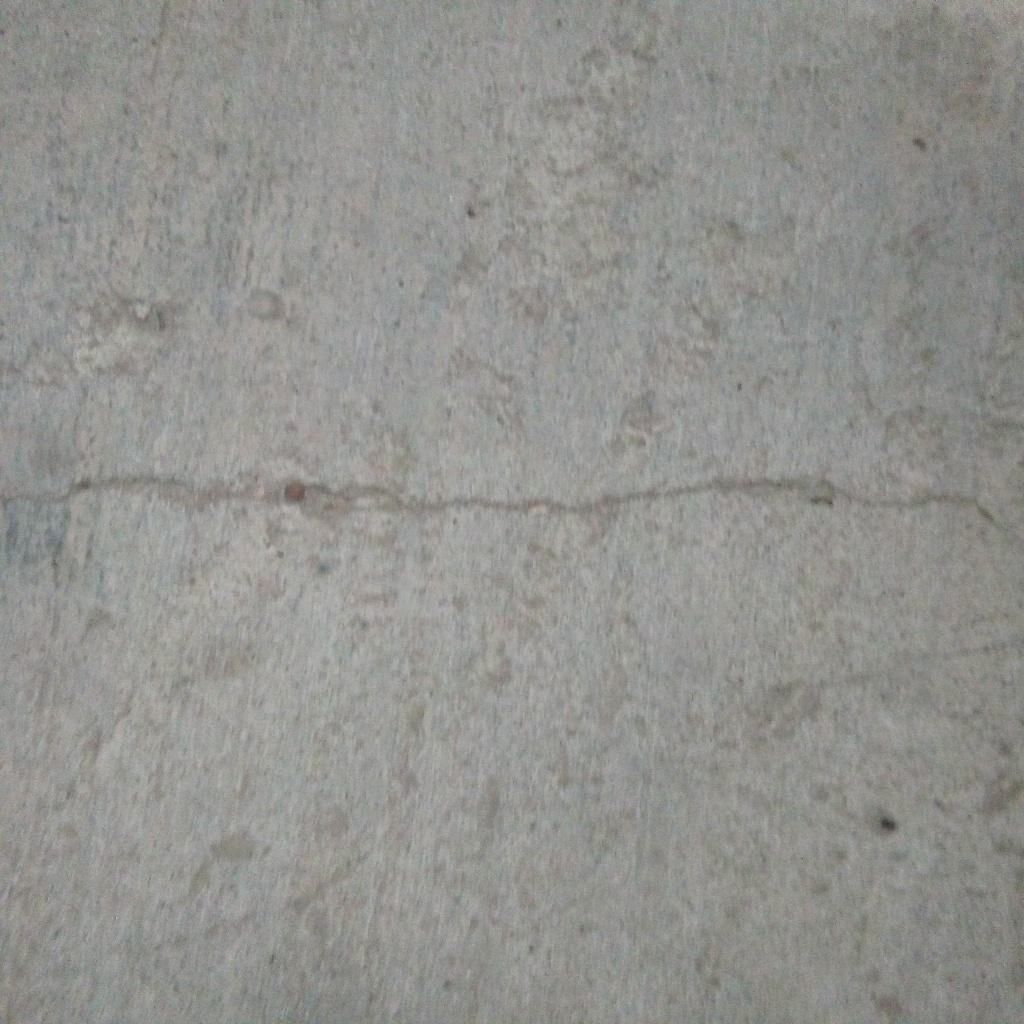Crack: (1, 470, 1004, 536)
